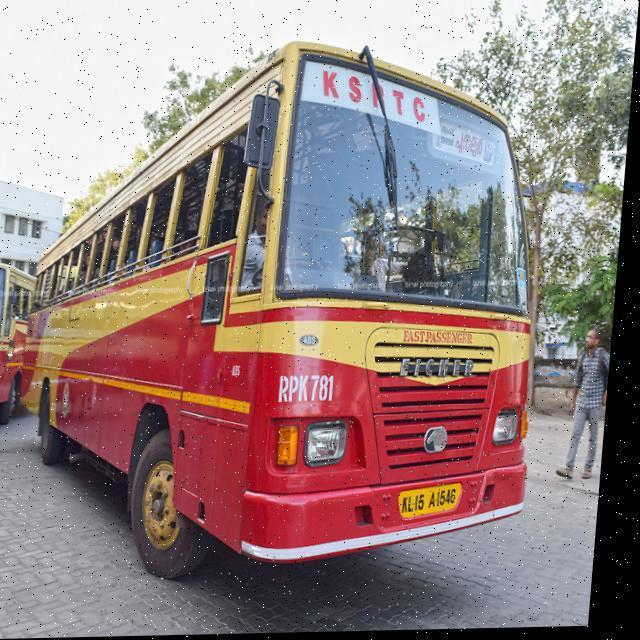Bus: (9, 34, 568, 588), (0, 390, 613, 638), (0, 258, 44, 428)
